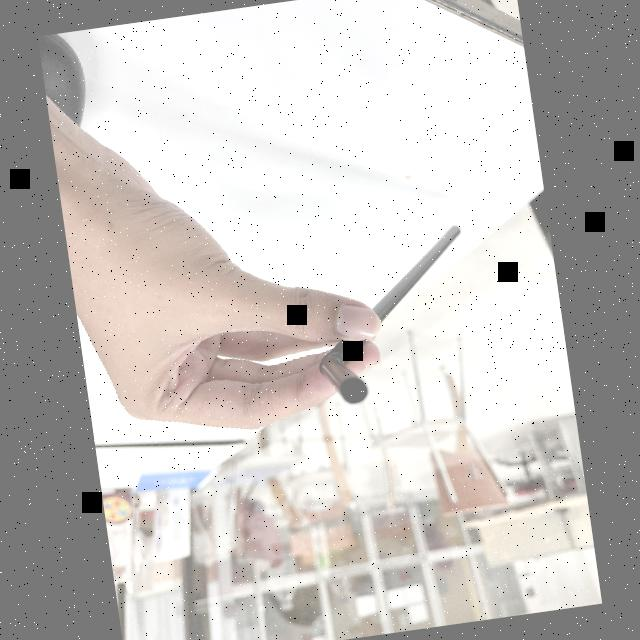straw: (296, 220, 488, 412)
